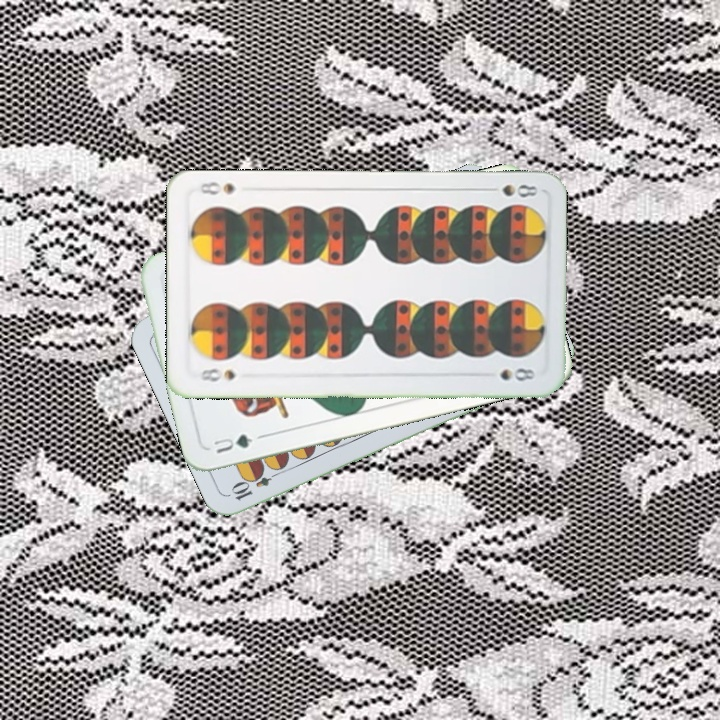E10: (227, 465, 284, 503)
GU: (209, 430, 256, 456)
S8: (481, 180, 540, 200), (191, 364, 238, 384)
